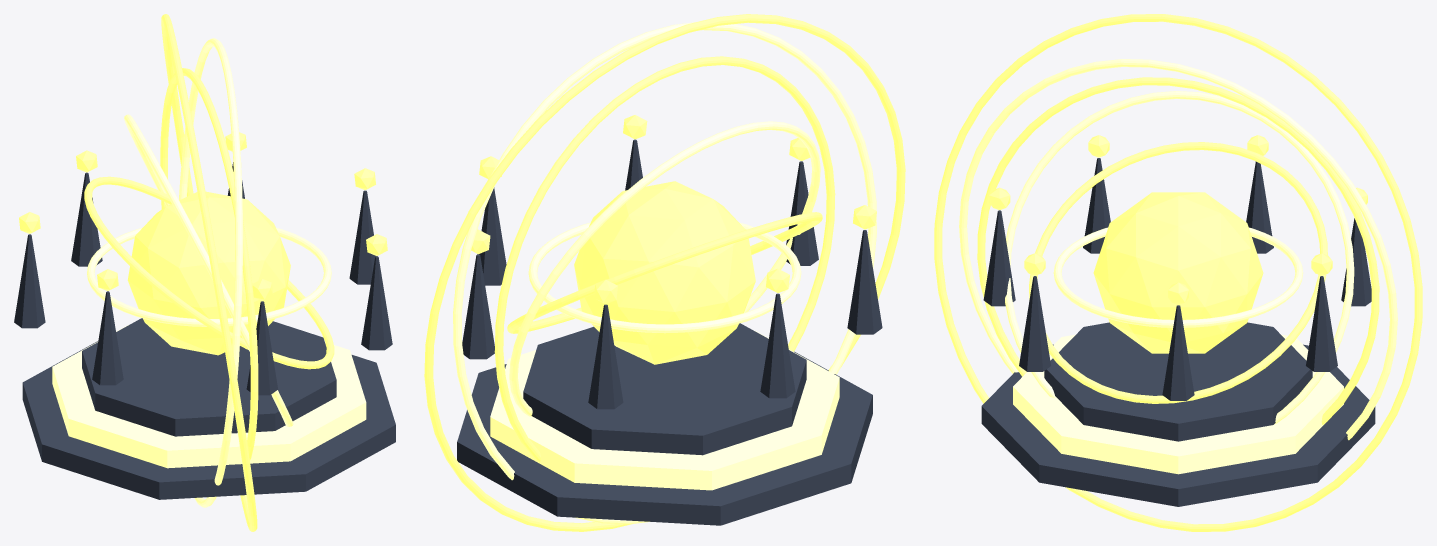
The model's file is gpu-blender-v23.glb.
The picture shows the model from 3 angles, left to right: view 1: azimuth 30°, elevation 25°; view 2: azimuth 150°, elevation 25°; view 3: azimuth 270°, elevation 25°; orthographic projection. The views are drawn at different scales.
Parts seen in each view (by area): view 1: Cylinder.002, Cylinder, SovereignCore_adytum-alchemist-ai-workflow, Cylinder.001, Torus.005, Torus.004, Torus.003, Torus.001, Torus, Torus.002, Cone.003, Cone.006 (+4 smaller); view 2: Cylinder.002, SovereignCore_adytum-alchemist-ai-workflow, Cylinder, Cylinder.001, Torus.005, Torus.003, Torus.004, Torus.002, Torus.001, Torus, Cone.002, Cone.003 (+4 smaller); view 3: SovereignCore_adytum-alchemist-ai-workflow, Cylinder.002, Cylinder, Cylinder.001, Torus.005, Torus.004, Torus.003, Torus.002, Torus.001, Torus, Cone, Cone.001 (+5 smaller).
Part boxes in pixels (bbox=[...]): Cylinder.002: bbox=[82, 318, 336, 436]; Cylinder: bbox=[22, 341, 395, 499]; SovereignCore_adytum-alchemist-ai-workflow: bbox=[127, 191, 290, 355]; Cylinder.001: bbox=[52, 325, 366, 468]; Torus.005: bbox=[161, 14, 257, 531]; Torus.004: bbox=[179, 38, 242, 507]; Torus.003: bbox=[160, 68, 258, 459]; Torus.001: bbox=[84, 176, 334, 369]; Torus: bbox=[87, 227, 331, 326]; Torus.002: bbox=[124, 114, 293, 426]; Cone.003: bbox=[14, 234, 45, 328]; Cone.006: bbox=[361, 256, 392, 350]; Cylinder.002: bbox=[523, 323, 806, 455]; SovereignCore_adytum-alchemist-ai-workflow: bbox=[574, 181, 755, 364]; Cylinder: bbox=[457, 351, 872, 525]; Cylinder.001: bbox=[490, 330, 839, 490]; Torus.005: bbox=[424, 14, 905, 531]; Torus.003: bbox=[494, 56, 835, 461]; Torus.004: bbox=[453, 22, 876, 524]; Torus.002: bbox=[509, 121, 820, 416]; Torus.001: bbox=[507, 212, 822, 333]; Torus: bbox=[528, 222, 801, 333]; Cone.002: bbox=[588, 304, 623, 409]; Cone.003: bbox=[760, 293, 795, 398]; SovereignCore_adytum-alchemist-ai-workflow: bbox=[1093, 192, 1263, 353]; Cylinder.002: bbox=[1044, 322, 1312, 441]; Cylinder: bbox=[981, 344, 1375, 506]; Cylinder.001: bbox=[1013, 334, 1343, 474]; Torus.005: bbox=[934, 14, 1422, 531]; Torus.004: bbox=[959, 59, 1397, 440]; Torus.003: bbox=[977, 77, 1379, 424]; Torus.002: bbox=[1005, 91, 1354, 423]; Torus.001: bbox=[1029, 142, 1327, 403]; Torus: bbox=[1053, 227, 1303, 327]; Cone: bbox=[1162, 305, 1194, 400]; Cone.001: bbox=[1306, 276, 1337, 371].
Bounding box in the file's own units: 4.41 × 5.93 × 5.46.
